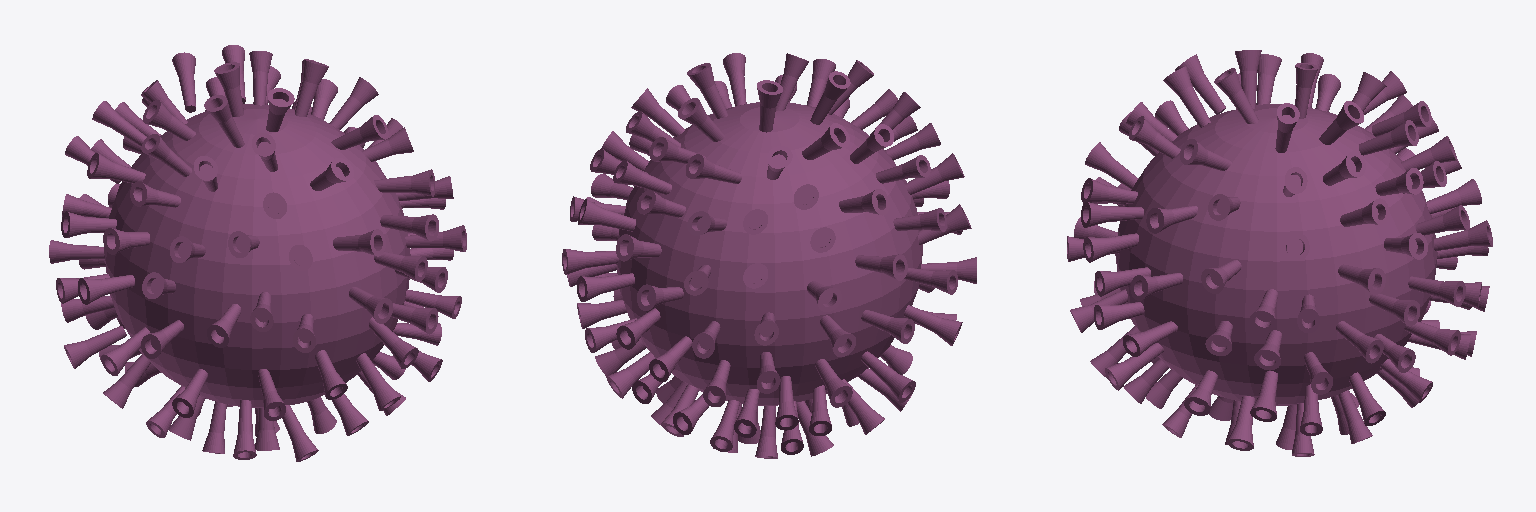
The picture shows the model from 3 angles: view 1: azimuth 30°, elevation 25°; view 2: azimuth 150°, elevation 25°; view 3: azimuth 270°, elevation 25°; orthographic projection.
Parts seen in each view (by area): view 1: corona2_Cilindro.002; view 2: corona2_Cilindro.002; view 3: corona2_Cilindro.002.
Boxes of the visible parts, x1,y1,x2,y2 form: corona2_Cilindro.002: [49, 45, 466, 461]; corona2_Cilindro.002: [562, 53, 976, 458]; corona2_Cilindro.002: [1067, 50, 1492, 456].
Size of the model in its own units: 1.78 by 1.75 by 1.83.
1 materials, 1 textured.